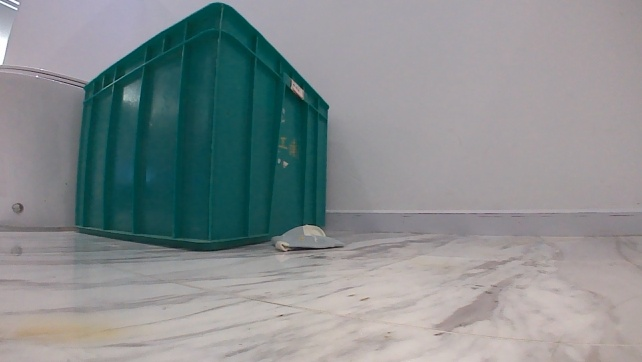socks: (269, 222, 345, 255)
toilet: (0, 62, 87, 230)
